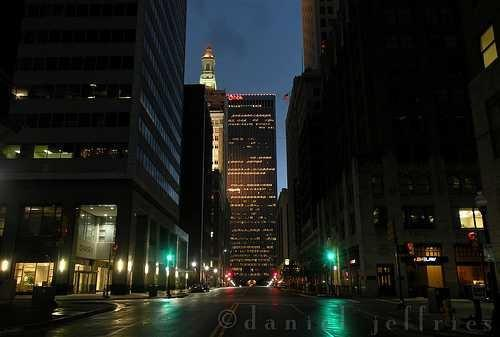red: (325, 249, 337, 264), (166, 254, 176, 264)
